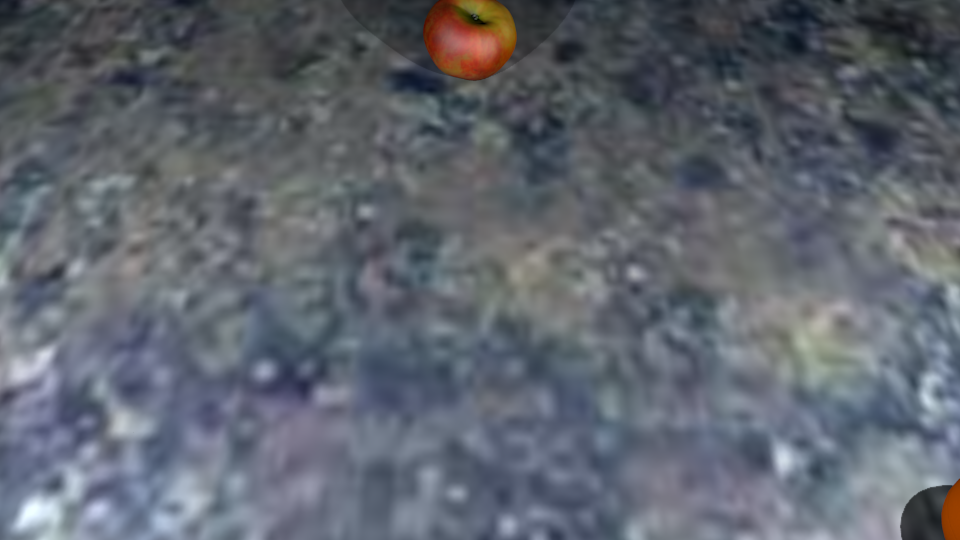apple: (942, 475, 959, 538)
cola_can: (589, 95, 656, 182), (560, 366, 630, 437)
